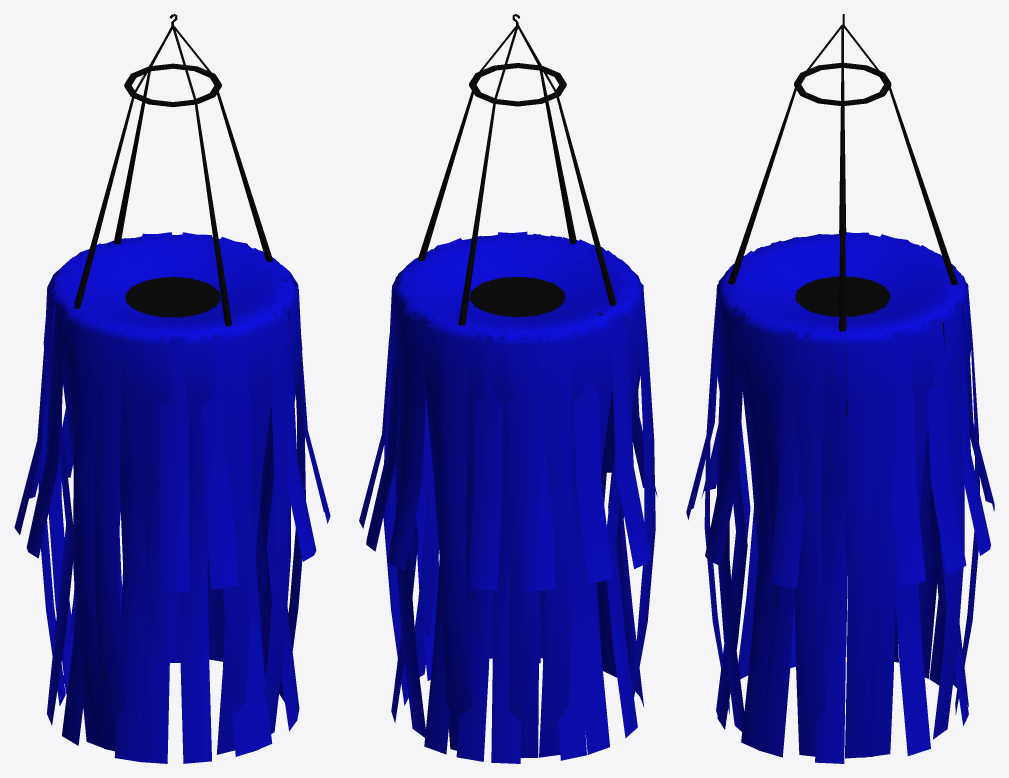
File: hanging plant.fbx
3 renders of one model, left to right at view 1: azimuth 30°, elevation 25°; view 2: azimuth 150°, elevation 25°; view 3: azimuth 270°, elevation 25°, orthographic.
Visible parts, largest first — view 1: hanging_plant; view 2: hanging_plant; view 3: hanging_plant.
Part boxes in pixels (box(x1,y1,x2,y2)): hanging_plant: box(14, 14, 330, 763); hanging_plant: box(359, 14, 657, 763); hanging_plant: box(686, 14, 994, 763).
Bounding box in the file's own units: 61.88 × 155 × 62.38.
